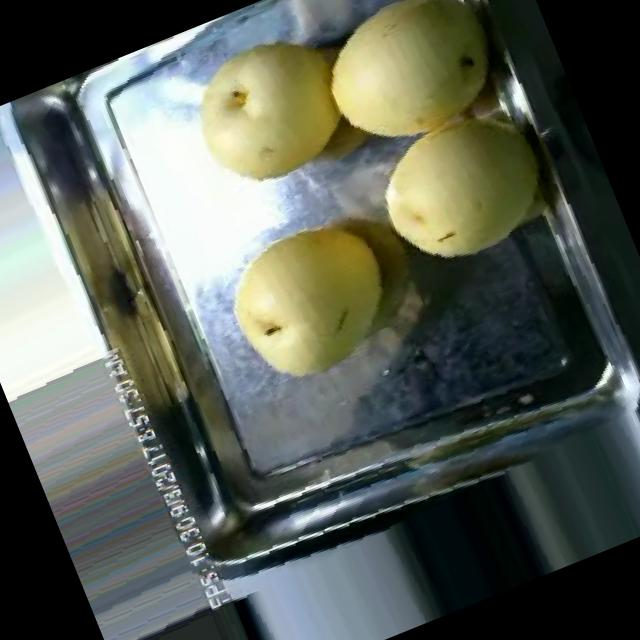Fruit: (198, 194, 425, 416), (157, 1, 384, 215), (350, 88, 576, 294), (291, 0, 531, 173)
